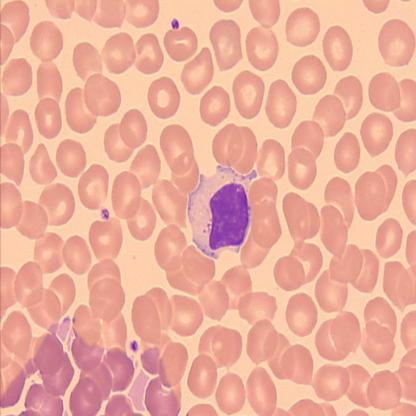Lymphocyte: (186, 162, 257, 260)
